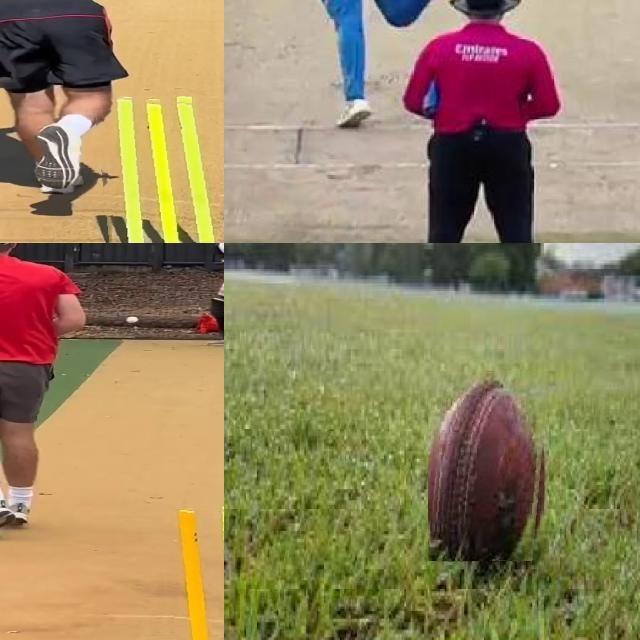Cricket ball: (428, 370, 549, 561), (126, 316, 139, 324)
Stumps: (93, 95, 219, 243), (154, 503, 224, 640)
